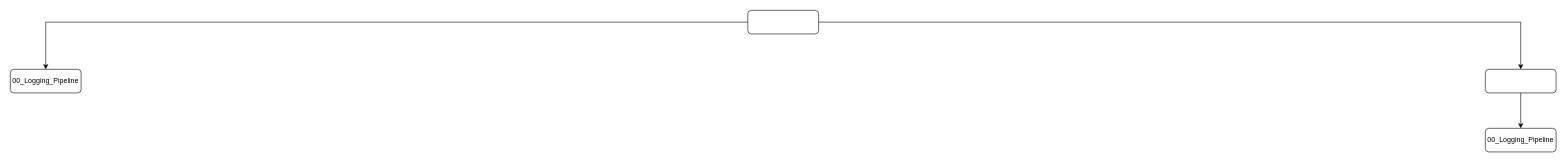
This 1566x162 diagram has some shape labels left out. Each missing label, with the box of its shape:
01_p2_LoadDataInDB: (1485, 69, 1556, 93)
InvokeSCD2: (747, 10, 819, 34)
